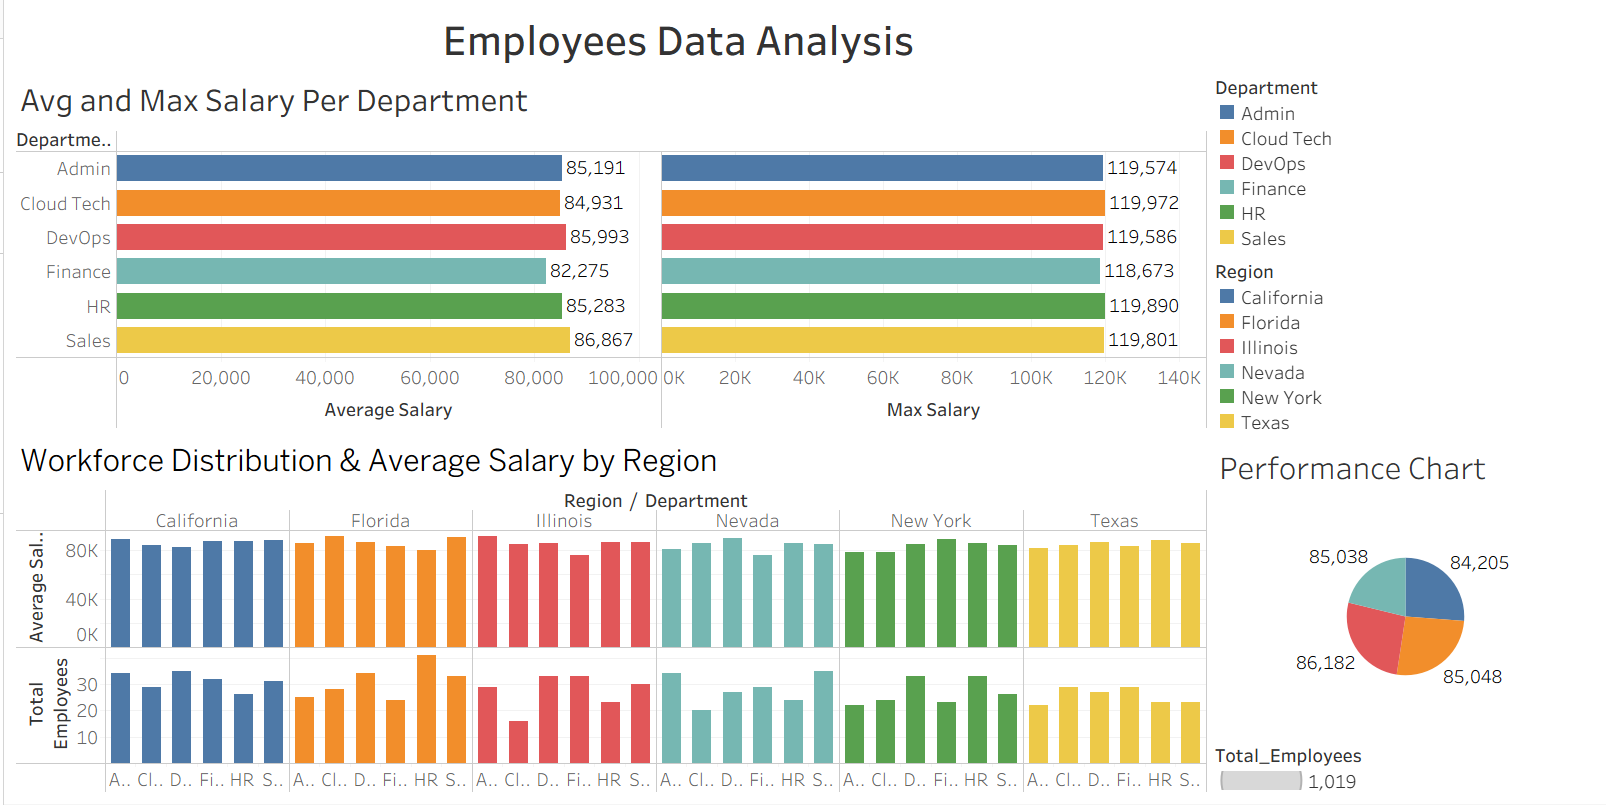

What the dashboard file says about the page in this screenshot:
{"tool":"tableau","page":{"name":"Employees_DataAnalysis","canvas":[1000,1000],"units":"permille","ordinal":0},"visuals":[{"type":"title","box":[12.5,10.1,975,148.8]},{"type":"worksheet","title":"Sheet 1","mark":"Automatic","rows":["Department"],"cols":["Average_Salary","Max_Salary"],"box":[12.5,158.9,367.2,415.5]},{"type":"legend","title":"Sheet 1","param":"[federated.1gdgv171u91w1c16ne4r70wx17b9].[none:Department:nk]","box":[379.7,158.9,607.8,232]},{"type":"legend","title":"Sheet 2","param":"[federated.19zxew01u8jlf713pc2l413epabi].[none:Region:nk]","box":[379.7,390.9,607.8,232]},{"type":"worksheet","title":"Sheet 2","mark":"Automatic","rows":["Average_Salary","Total_Employees"],"cols":["Region","Department"],"box":[12.5,574.4,367.2,415.5]},{"type":"worksheet","title":"Sheet 3","mark":"Pie","box":[379.7,623,607.8,292.6]},{"type":"legend","title":"Sheet 3","param":"[federated.1qhrxdx0hywc8713n5h0i15vmv77].[sum:Total_Employees:qk]","box":[379.7,915.5,607.8,74.4]}]}

Visuals, with their boxes on the dashboard's canvas, which has no fixed pixel size, in thousandths of its width and height (x1, y1, x2, y2). These are canvas units, not pixel positions in the 1606x805 screenshot, which may show the page scaled, cropped or inside an application window:
title: pyautogui.locateOnScreen(12, 10, 988, 159)
"Sheet 1" worksheet: pyautogui.locateOnScreen(12, 159, 380, 574)
"Sheet 1" legend: pyautogui.locateOnScreen(380, 159, 988, 391)
"Sheet 2" legend: pyautogui.locateOnScreen(380, 391, 988, 623)
"Sheet 2" worksheet: pyautogui.locateOnScreen(12, 574, 380, 990)
"Sheet 3" worksheet (Pie marks): pyautogui.locateOnScreen(380, 623, 988, 916)
"Sheet 3" legend: pyautogui.locateOnScreen(380, 916, 988, 990)
